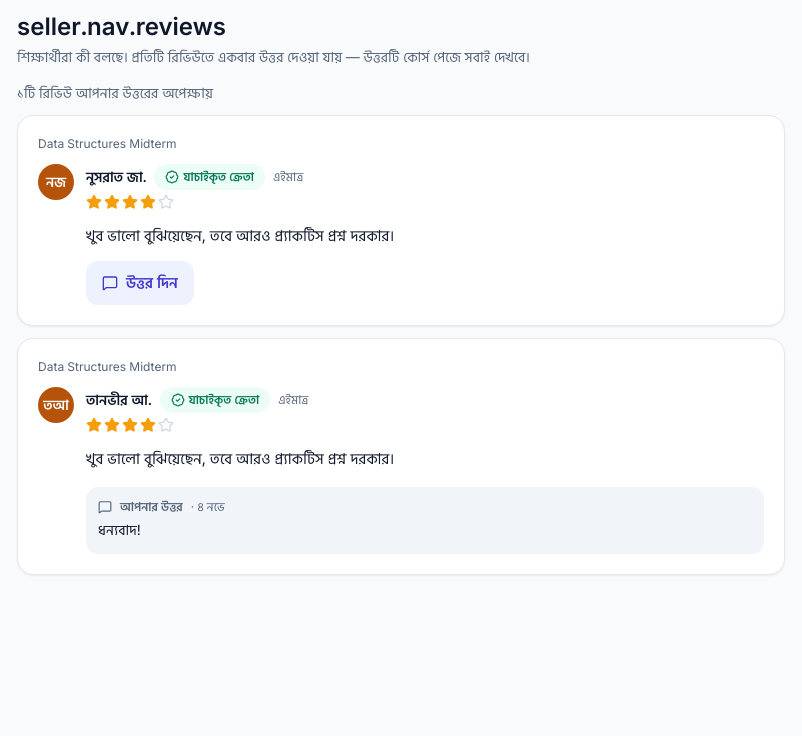
Test case: Seller reviews › shows stars and existing replies; replies once and then hides the button
Expected: the number of pictures named "৫-এর মধ্যে ৪ স্টার" is 2, x1=86 y1=194 x2=174 y2=210; x1=86 y1=417 x2=174 y2=433
Expected: the text "১টি রিভিউ আপনার উত্তরের অপেক্ষায়" is shown, x1=17 y1=84 x2=213 y2=101
Click the button "উত্তর দিন" at (140, 283), box x1=86 y1=261 x2=194 y2=305
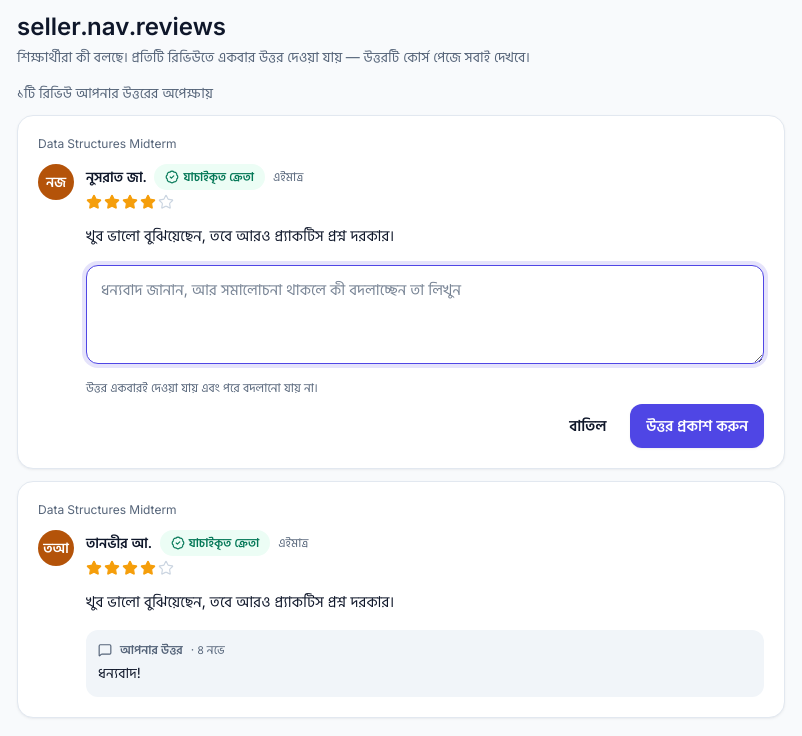
Type "ধন্যবাদ, নতুন প্র্যাকটিস সেট যোগ করছি।" into the text box named "নুসরাত জা.-এর রিভিউতে উত্তর" at (425, 314), box x1=86 y1=265 x2=764 y2=364
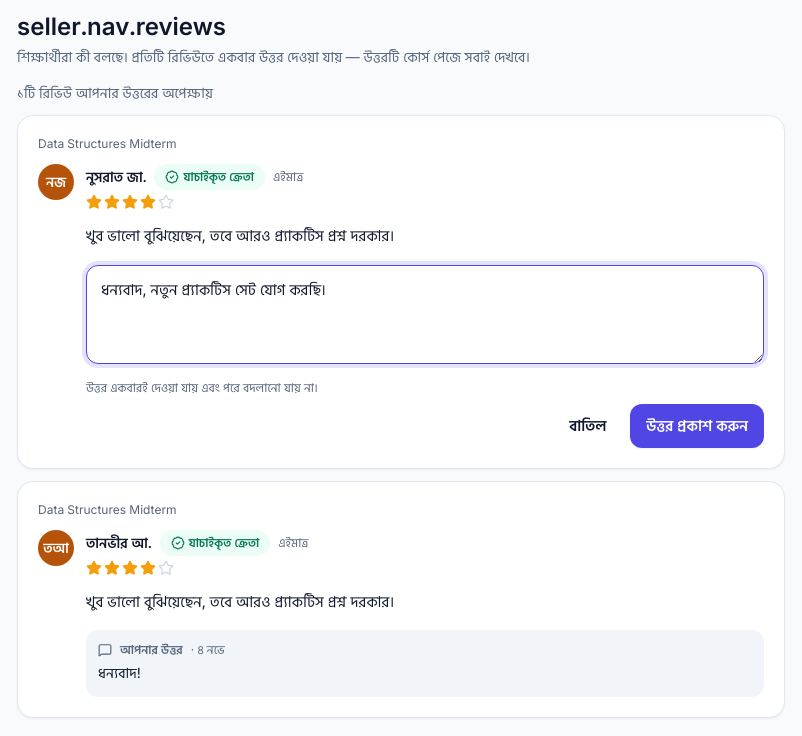
Click the button "উত্তর প্রকাশ করুন" at (697, 426), box x1=630 y1=404 x2=764 y2=448
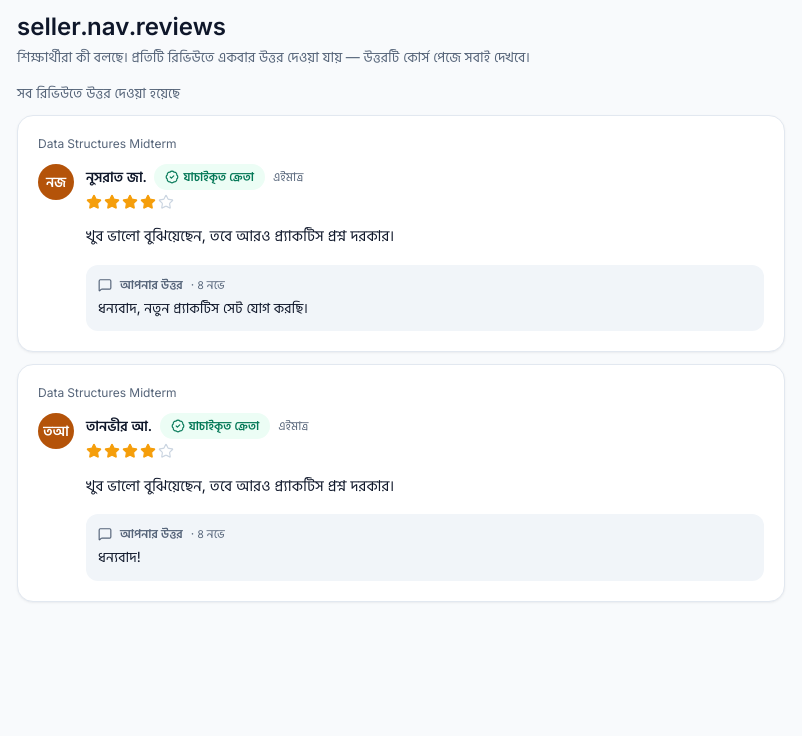
Expected: the button "উত্তর দিন" is not shown
Expected: the text "ধন্যবাদ, নতুন প্র্যাকটিস সেট যোগ করছি।" is shown, x1=98 y1=299 x2=308 y2=316
